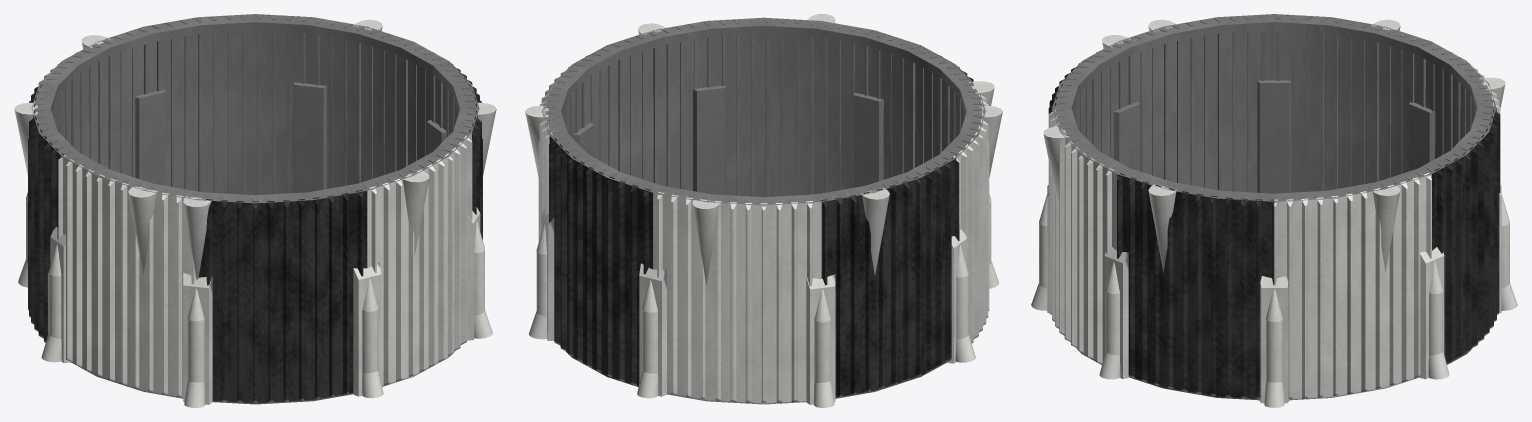
Rendered from ksprocket.fbx.
The picture shows the model from 3 angles, left to right: view 1: azimuth 30°, elevation 25°; view 2: azimuth 150°, elevation 25°; view 3: azimuth 270°, elevation 25°; orthographic projection.
Visible parts, largest first — view 1: ullage.003; view 2: ullage.003; view 3: ullage.003.
Part boxes in pixels (<box>): ullage.003: <box>14,14,496,407</box>; ullage.003: <box>525,14,1002,407</box>; ullage.003: <box>1031,14,1517,407</box>.
Size of the model in its own units: 1107 by 502 by 1107.
